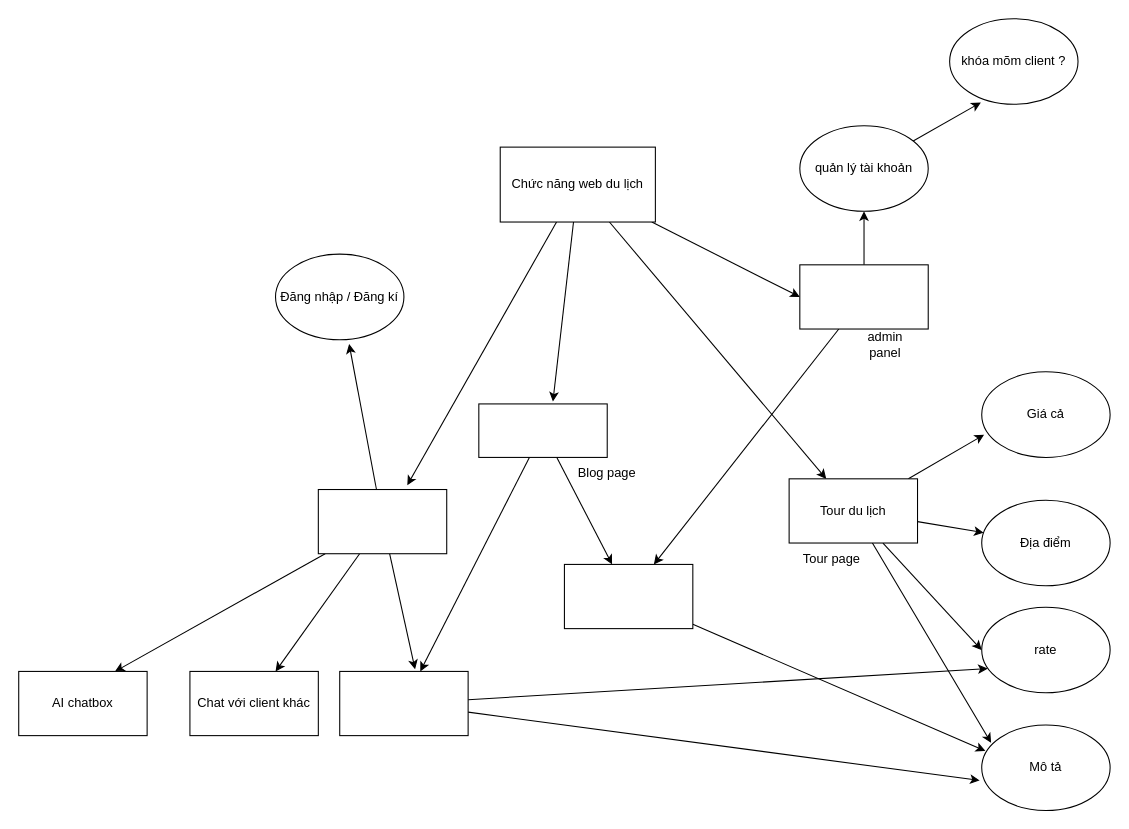
Some shapes in this 1129 by 829 pixel diagram are drawn without their labels. Each missing label, with the centre of its shape:
Admin: point (863, 296)
Blog: point (542, 430)
Blog cá nhân: point (403, 703)
Blog mặc định: point (628, 596)
Client: point (382, 521)
